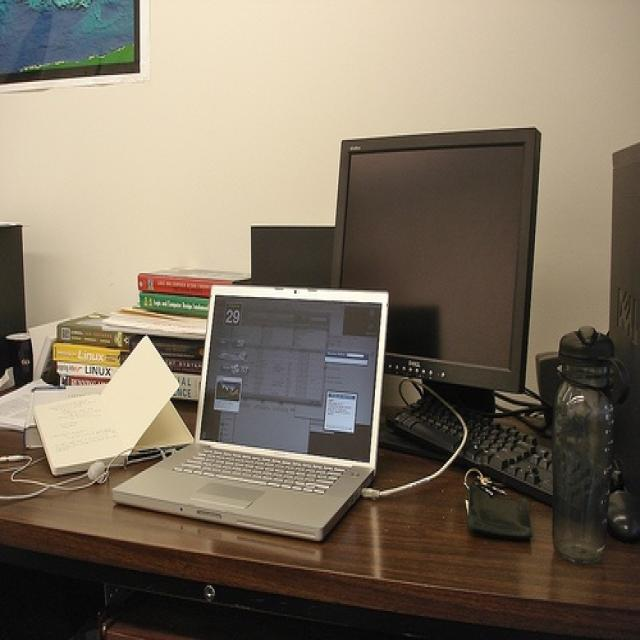bottle: (548, 314, 623, 572)
tvmonitor: (326, 121, 544, 398)
